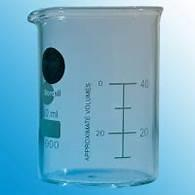Beaker: (22, 4, 164, 188)
